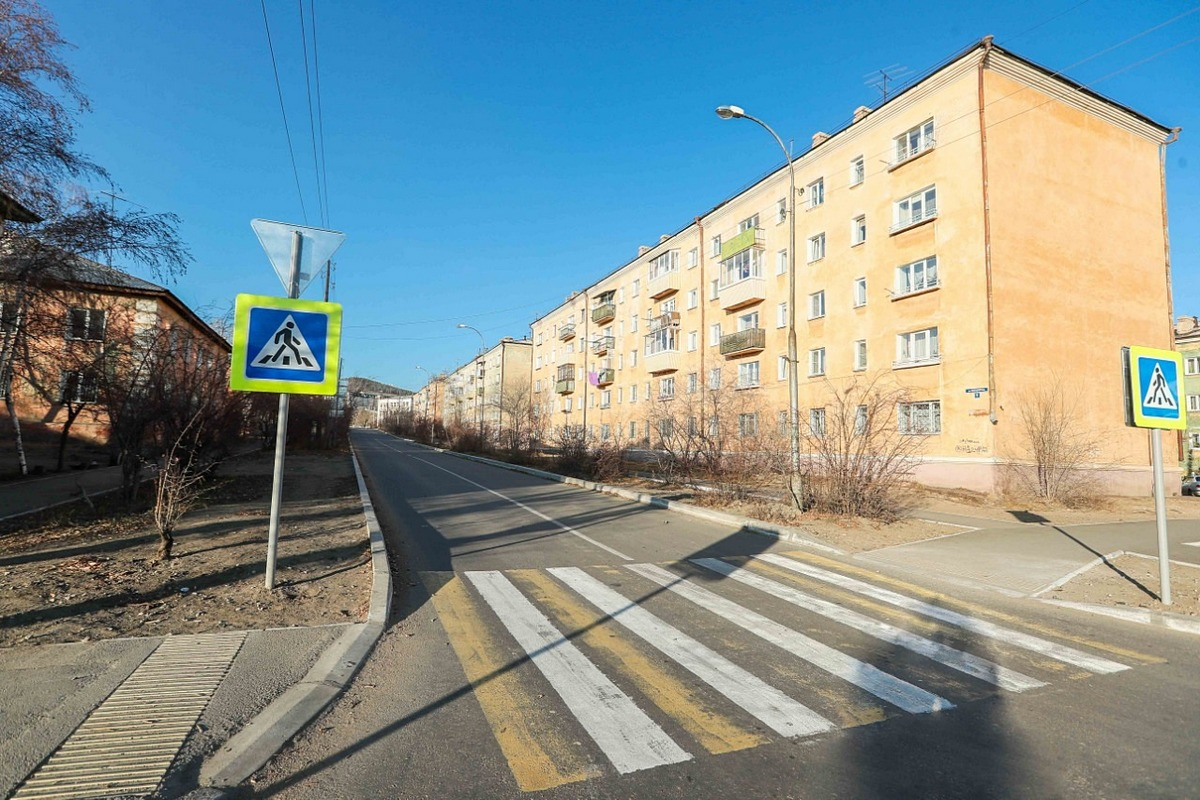sign: (223, 287, 350, 402), (1114, 336, 1192, 430)
